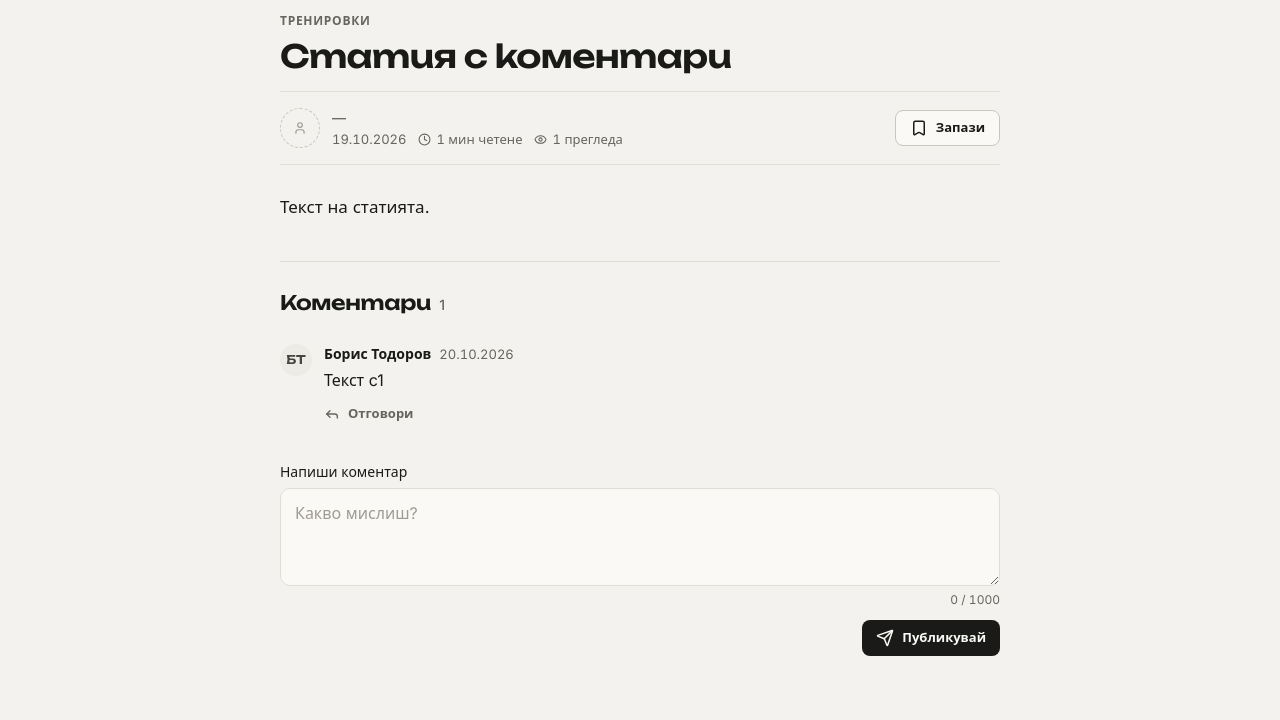
Scenario: Comments › posts a comment: it appears above the composer, the field clears, success toast
This screenshot has width=1280, height=720.
(page scrolled)
Type "  Страхотна статия!  " into the text box labelled "Напиши коментар" at {"x": 640, "y": 537}, box x1=280 y1=488 x2=1000 y2=586
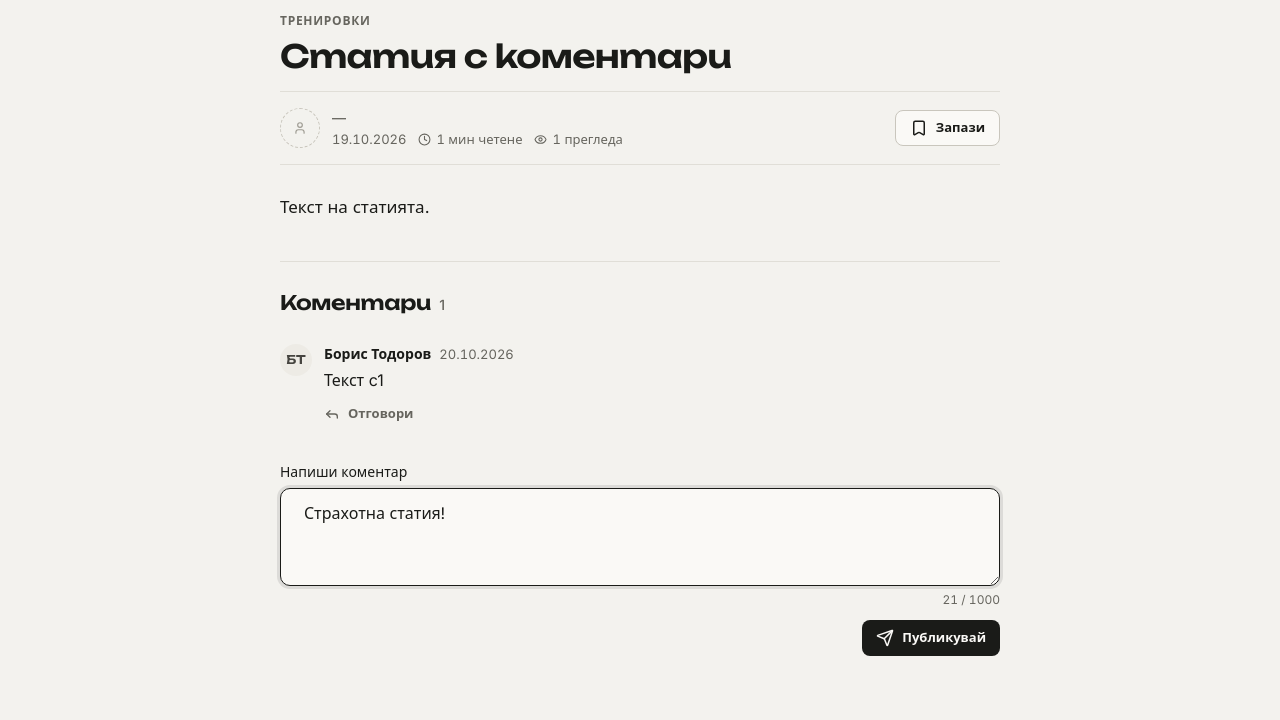
Click the button "Публикувай" at {"x": 931, "y": 638}, box x1=862 y1=620 x2=1000 y2=656
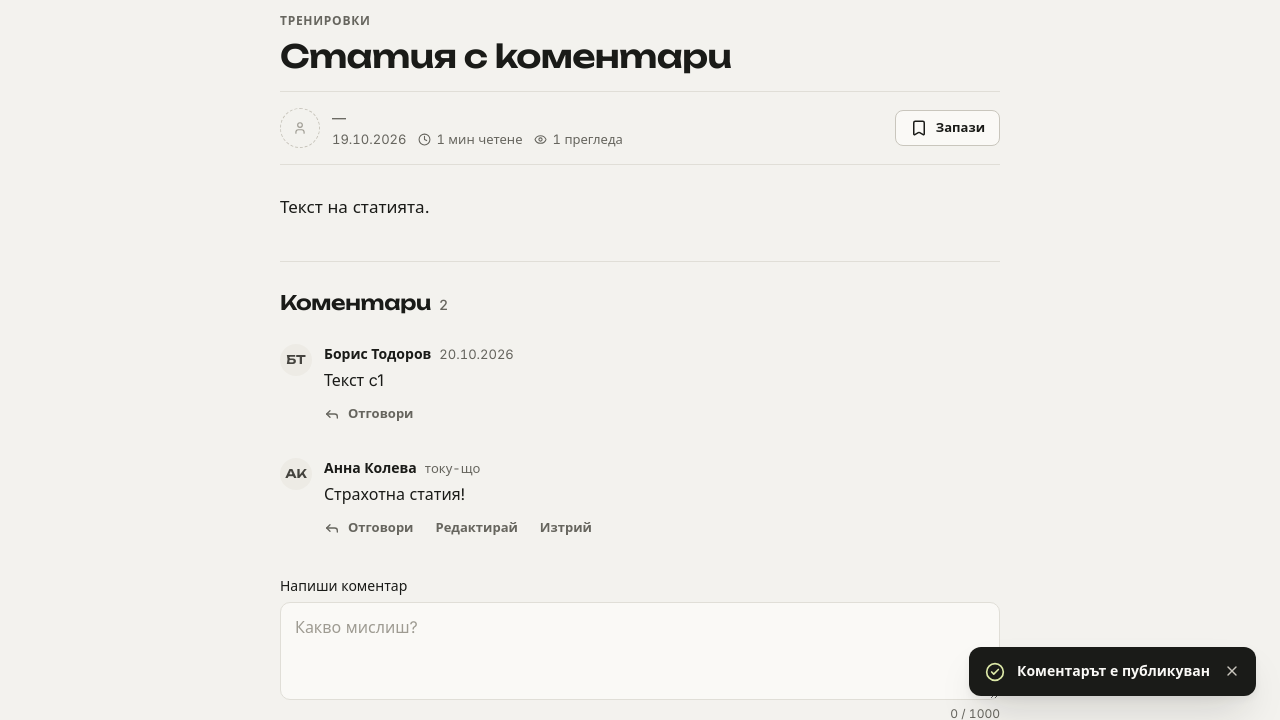
Now the text "Страхотна статия!" is shown, box x1=324 y1=484 x2=465 y2=504
Now the text "Коментарът е публикуван" is shown, box x1=1017 y1=661 x2=1210 y2=681
